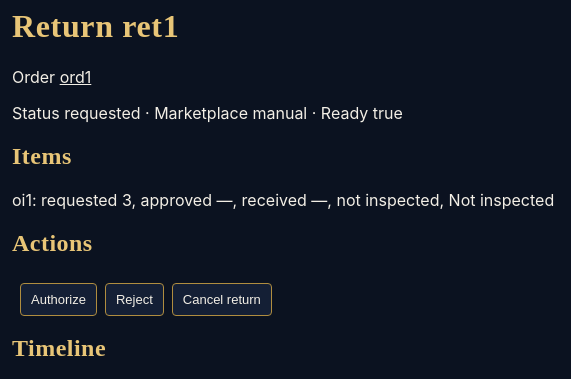
it: Return detail lifecycle actions (Sprint 56B) › reloads authoritative backend state after a success rather than fabricating the new status
Expected: the text "Status requested · Marketplace manual · Ready true" is shown, x1=12 y1=103 x2=403 y2=123
Click the button "Authorize" at (58, 299), box x1=20 y1=282 x2=97 y2=316
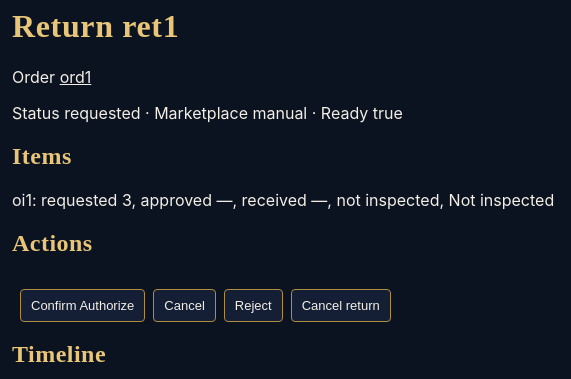
Click the button "Confirm Authorize" at (83, 305), box x1=20 y1=288 x2=145 y2=322
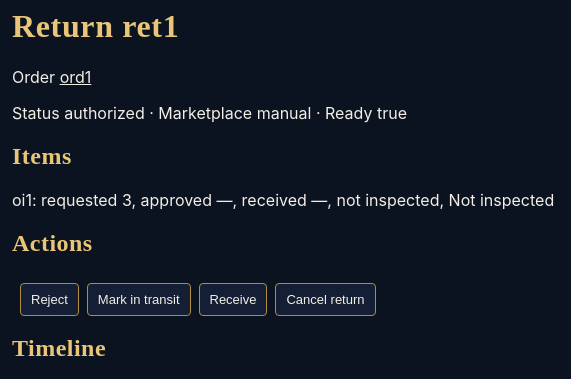
Result: the text "Status authorized · Marketplace manual · Ready true" is shown at x1=12 y1=103 x2=407 y2=123
